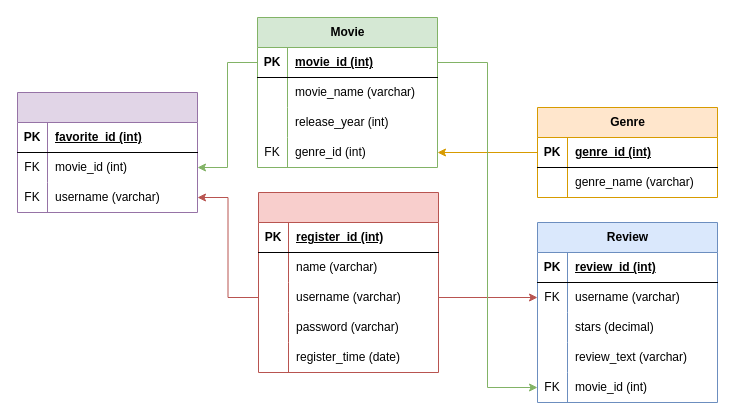
Image size: 735x420. Some labels were removed from this diagram. The box of each missing label's shape, as (x1, y1, x2, y2) in pixels:
Favorite_movie: (16, 92, 198, 212)
User_register: (258, 192, 438, 372)
